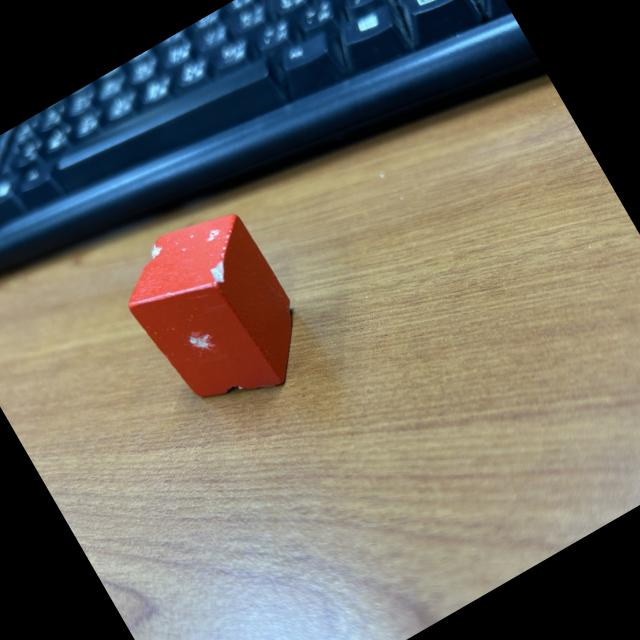broken: (106, 195, 326, 434)
